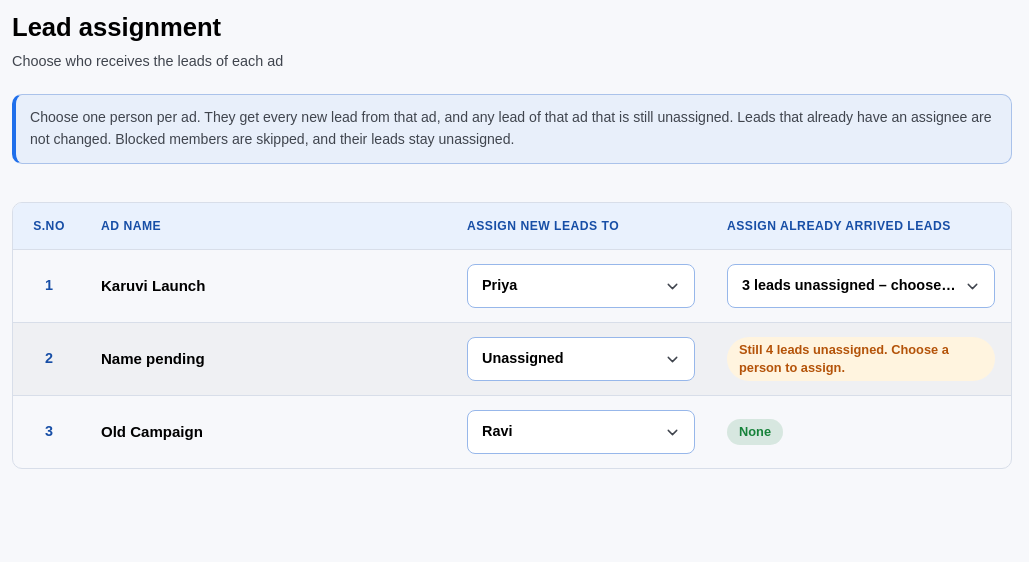
Test: AdAssignmentSection › clears a rule without asking and without touching any lead
Expected: the text "Karuvi Launch" is shown, [101,277,205,294]
Select "Unassigned" in the dropdown named "new leads of" at (581, 286), box [467,264,695,308]
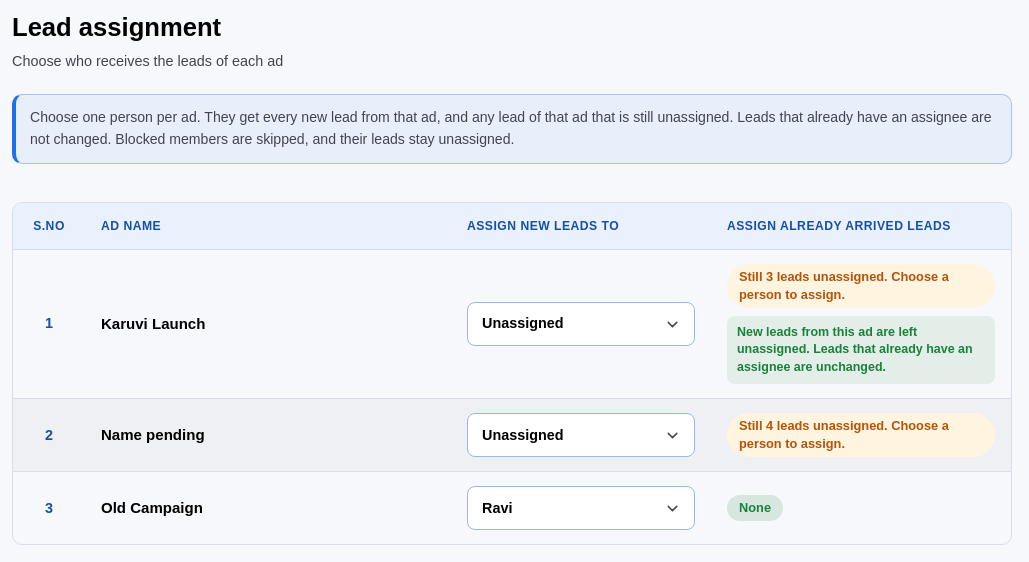
Now the text "New leads from this ad are left unassigned" is shown, box [737,325,973,374]
